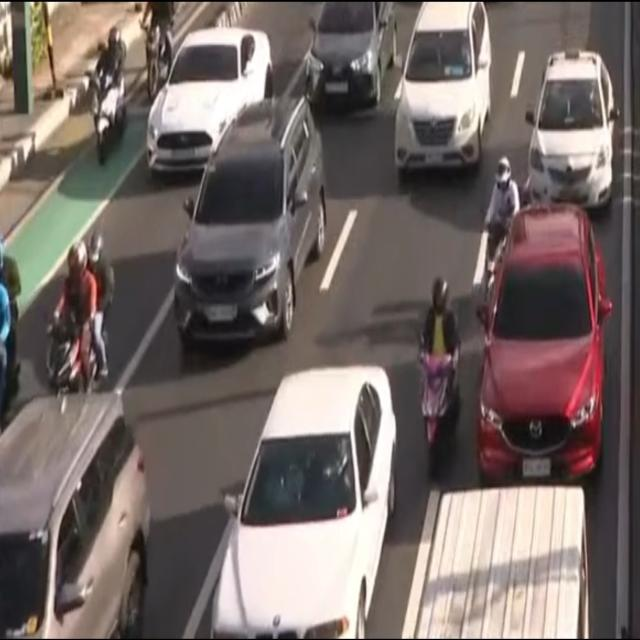Motorcycle: (43, 231, 118, 395), (413, 272, 462, 476), (479, 152, 518, 324), (87, 28, 129, 158)
SUV: (174, 94, 327, 341), (0, 390, 148, 640), (483, 206, 601, 484), (392, 2, 494, 174)
Sedan: (208, 365, 396, 640), (148, 28, 272, 174), (526, 48, 614, 207), (298, 0, 401, 113)
